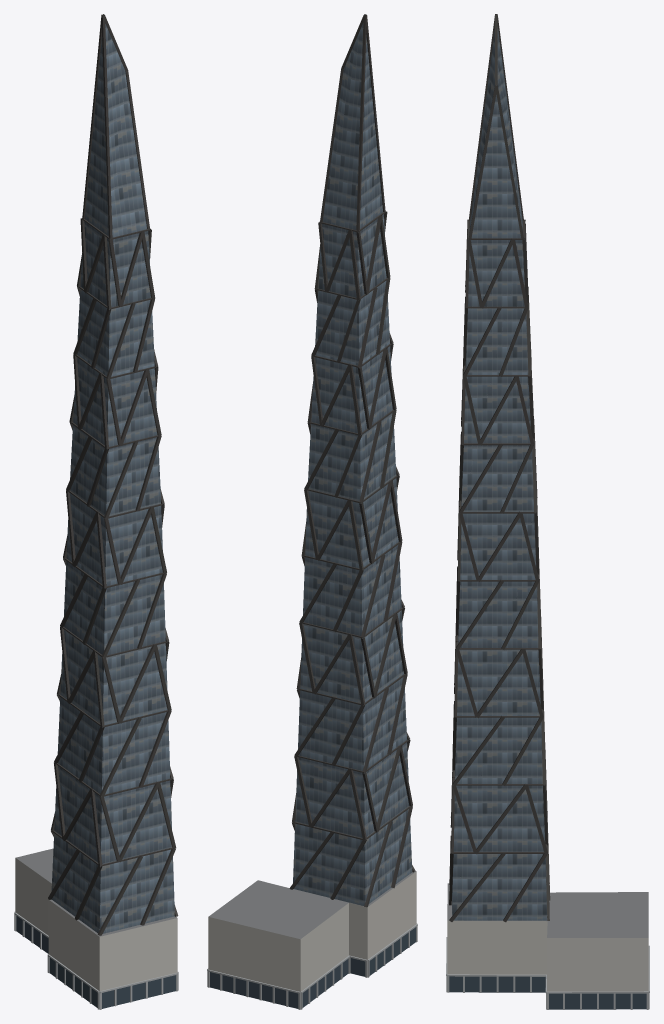
Rendered from moma_53w53.glb.
The picture shows the model from 3 angles, left to right: view 1: azimuth 30°, elevation 25°; view 2: azimuth 150°, elevation 25°; view 3: azimuth 270°, elevation 25°; orthographic projection. The views are drawn at different scales.
Parts seen in each view (by area): view 1: moma_53w53; view 2: moma_53w53; view 3: moma_53w53.
Boxes of the visible parts, <box> form: moma_53w53: <box>14,14,178,1009</box>; moma_53w53: <box>207,14,417,1009</box>; moma_53w53: <box>446,14,649,1009</box>.
Size of the model in its own units: 40.1 by 320 by 61.98.
Materials: 2 (2 with a texture image).
